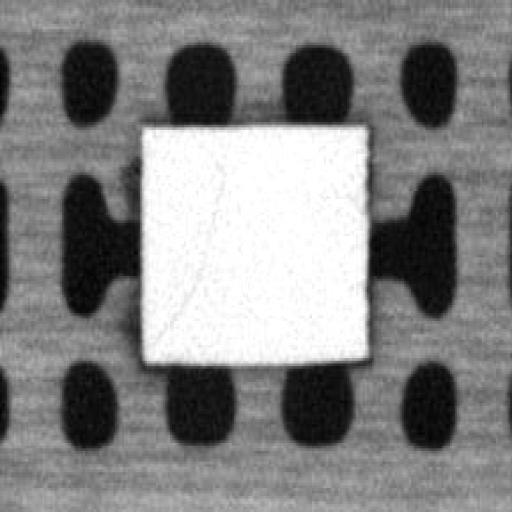DIE_CRACK: (161, 170, 223, 329)
